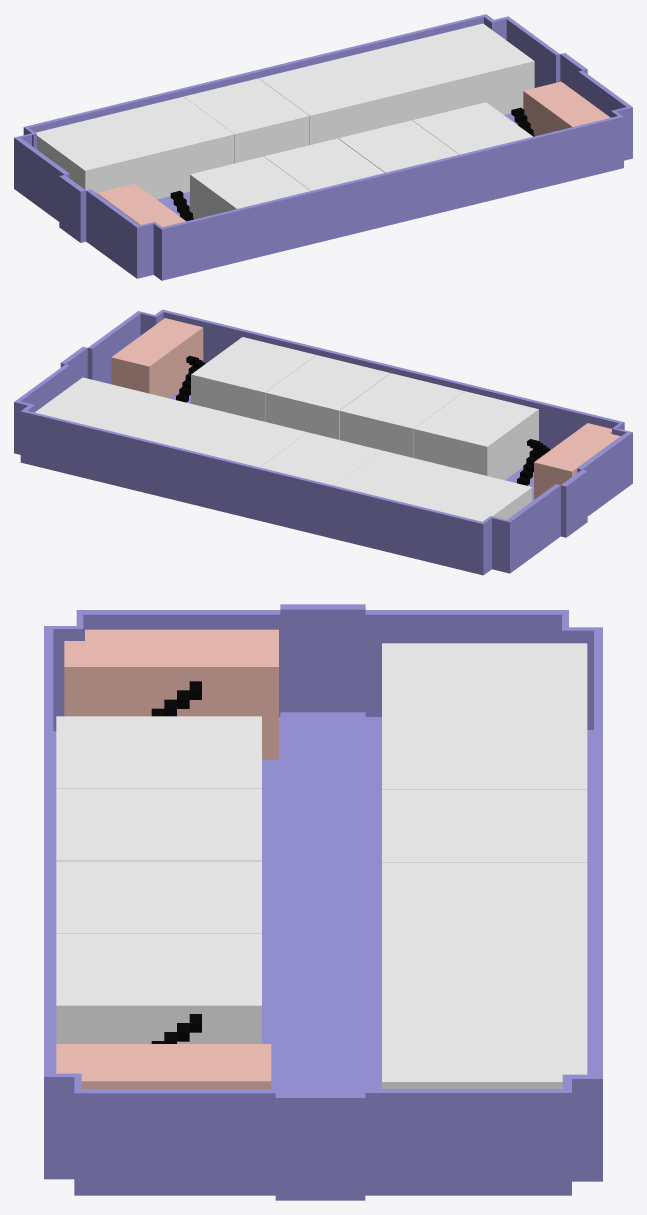
3 renders of one model, top to bottom at view 1: azimuth 30°, elevation 25°; view 2: azimuth 150°, elevation 25°; view 3: azimuth 270°, elevation 25°, orthographic. The views are drawn at different scales.
Parts seen in each view (by area): view 1: object, ゼミ75, ゼミ74, ゼミ70, ゼミ72, ゼミ73, ゼミ71, ゼミ79, ゼミ77, ゼミ76, ゼミ78, 女子トイレ_7_3 (+2 smaller); view 2: object, ゼミ79, ゼミ77, ゼミ78, ゼミ76, 女子トイレ_7_3, ゼミ75, ゼミ73, ゼミ72, ゼミ70, ゼミ71, ゼミ74 (+3 smaller); view 3: object, ゼミ76, 男子トイレ_7_3, ゼミ70, ゼミ75, ゼミ78, ゼミ74, ゼミ73, ゼミ72, ゼミ71, ゼミ79, ゼミ77 (+2 smaller).
Part boxes in pixels (left/top/right/bottom): object: left=14, top=14, right=632, bottom=280; ゼミ75: left=36, top=115, right=159, bottom=199; ゼミ74: left=109, top=96, right=234, bottom=198; ゼミ70: left=409, top=23, right=534, bottom=114; ゼミ72: left=259, top=60, right=384, bottom=144; ゼミ73: left=184, top=78, right=309, bottom=163; ゼミ71: left=334, top=41, right=459, bottom=126; ゼミ79: left=190, top=156, right=310, bottom=219; ゼミ77: left=338, top=120, right=458, bottom=172; ゼミ76: left=412, top=102, right=532, bottom=154; ゼミ78: left=264, top=138, right=384, bottom=190; 女子トイレ_7_3: left=523, top=81, right=610, bottom=135; object: left=14, top=309, right=632, bottom=575; ゼミ79: left=413, top=391, right=538, bottom=480; ゼミ77: left=265, top=355, right=390, bottom=439; ゼミ78: left=339, top=373, right=464, bottom=457; ゼミ76: left=191, top=337, right=315, bottom=421; 女子トイレ_7_3: left=111, top=318, right=203, bottom=398; ゼミ75: left=410, top=469, right=532, bottom=521; ゼミ73: left=260, top=432, right=382, bottom=485; ゼミ72: left=185, top=414, right=307, bottom=467; ゼミ70: left=35, top=377, right=156, bottom=430; ゼミ71: left=110, top=395, right=231, bottom=448; ゼミ74: left=335, top=450, right=456, bottom=503; object: left=44, top=604, right=602, bottom=1200; ゼミ76: left=56, top=933, right=261, bottom=1043; 男子トイレ_7_3: left=64, top=629, right=278, bottom=759; ゼミ70: left=382, top=1009, right=587, bottom=1088; ゼミ75: left=382, top=643, right=587, bottom=716; ゼミ78: left=56, top=788, right=261, bottom=861; ゼミ74: left=382, top=716, right=587, bottom=789; ゼミ73: left=382, top=789, right=587, bottom=862; ゼミ72: left=382, top=863, right=587, bottom=935; ゼミ71: left=382, top=936, right=587, bottom=1008; ゼミ79: left=56, top=716, right=261, bottom=788; ゼミ77: left=56, top=861, right=261, bottom=933.
Bounding box in the file's own units: 2.04 × 0.2013 × 0.9785.
